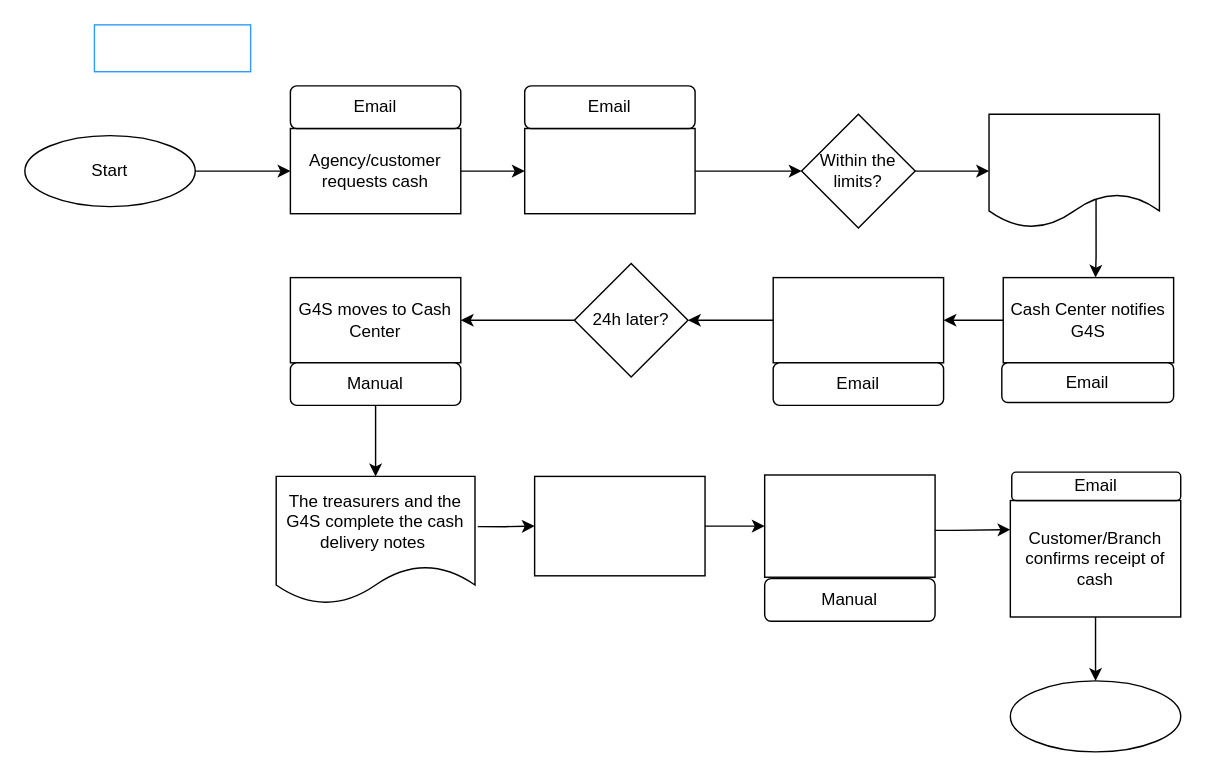
This 1206x777 diagram has some shape labels left out. Here are the shapes that lost their labels. From the top down, the centre of each, then its label:
At point 172,47: "AS IS".
At point 609,170: "Cash Center acknowledges receipt".
At point 1073,170: "Cash Center plans the following day's transfers".
At point 858,319: "G4S sends the details of the vehicle that will transport the value".
At point 619,525: "G4S transport the cash".
At point 849,525: "Customer/Branch receive the cash and the respective delivery notes".
At point 1095,715: "End".
